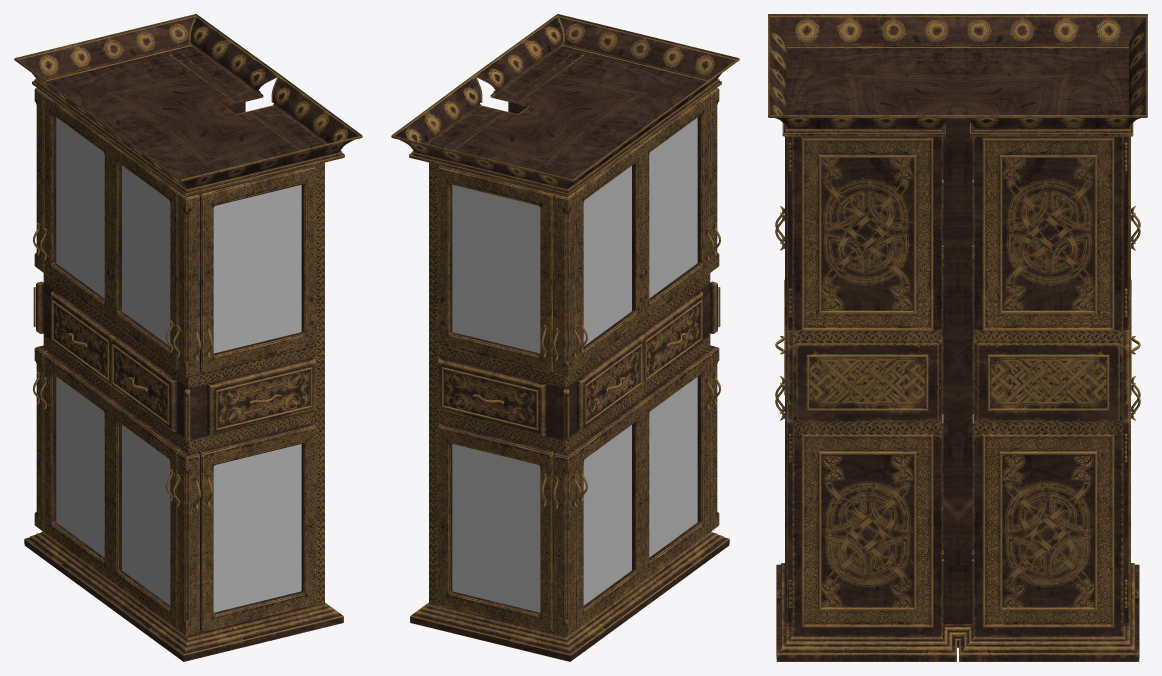
File: SM_Vitrin2DoubleDoorSideGlass.fbx
The picture shows the model from 3 angles, left to right: view 1: azimuth 30°, elevation 25°; view 2: azimuth 150°, elevation 25°; view 3: azimuth 270°, elevation 25°; orthographic projection. The views are drawn at different scales.
Parts seen in each view (by area): view 1: SM_Vitrin2DoubleDoorSideGlass_LOD0; view 2: SM_Vitrin2DoubleDoorSideGlass_LOD0; view 3: SM_Vitrin2DoubleDoorSideGlass_LOD0.
Boxes of the visible parts, x1=… form: SM_Vitrin2DoubleDoorSideGlass_LOD0: x1=14, y1=14, x2=362, y2=661; SM_Vitrin2DoubleDoorSideGlass_LOD0: x1=391, y1=14, x2=739, y2=661; SM_Vitrin2DoubleDoorSideGlass_LOD0: x1=768, y1=14, x2=1147, y2=661.
Bounding box in the file's own units: 96.51 × 152 × 246.
Materials: 2 (1 with a texture image).
